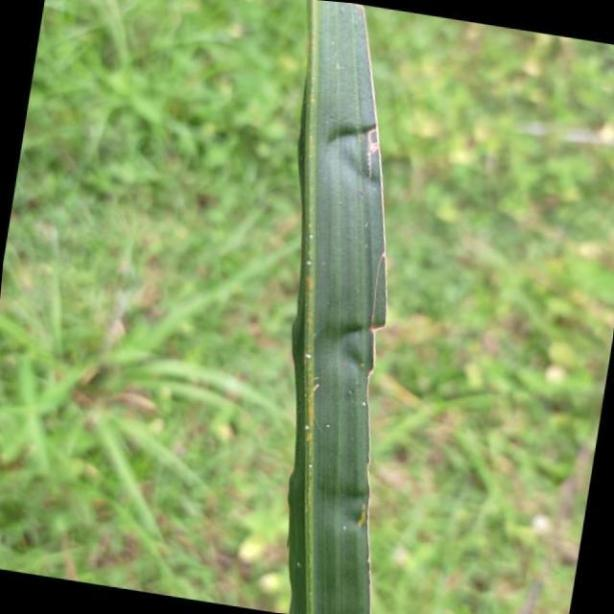Boron: (283, 0, 392, 614)
